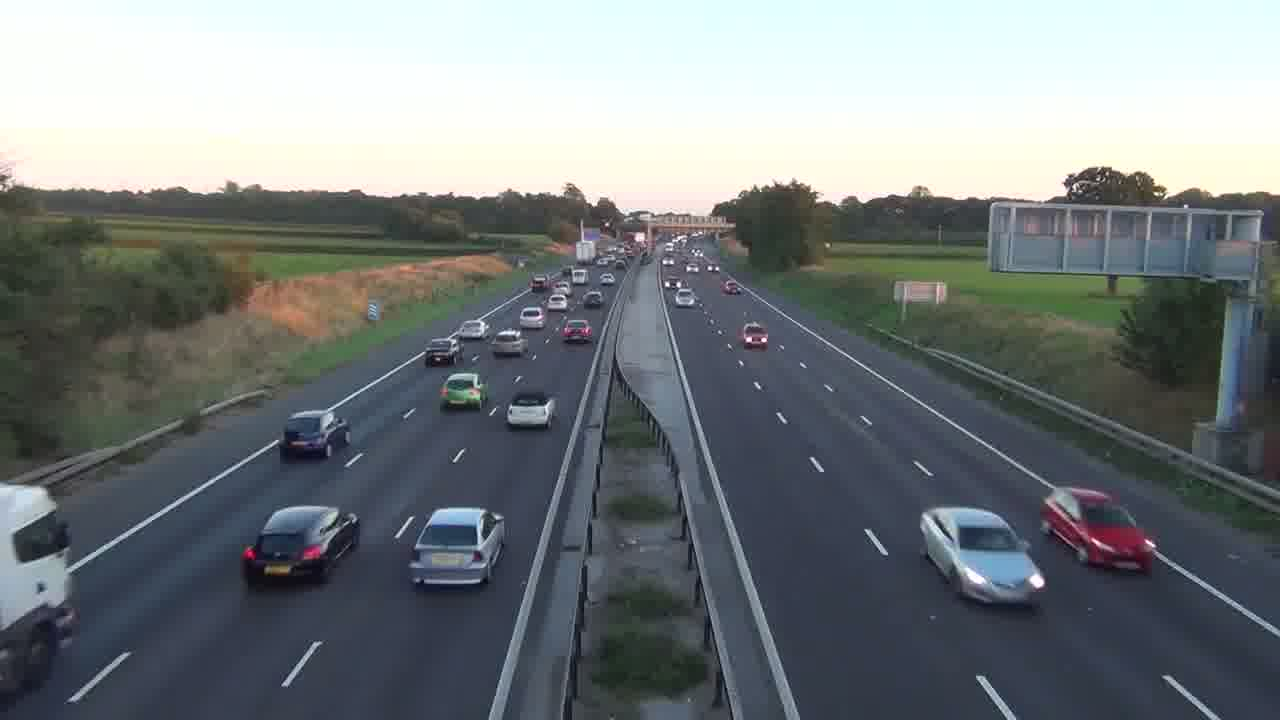car: (920, 505, 1047, 608), (1039, 485, 1157, 575), (240, 504, 361, 587), (407, 506, 507, 590), (506, 386, 558, 429), (438, 370, 484, 411), (424, 337, 460, 367), (491, 328, 526, 357), (560, 318, 593, 344), (740, 322, 769, 350), (453, 319, 488, 341), (519, 306, 546, 329), (580, 289, 604, 308), (721, 277, 741, 295)
truck: (0, 483, 79, 698)
